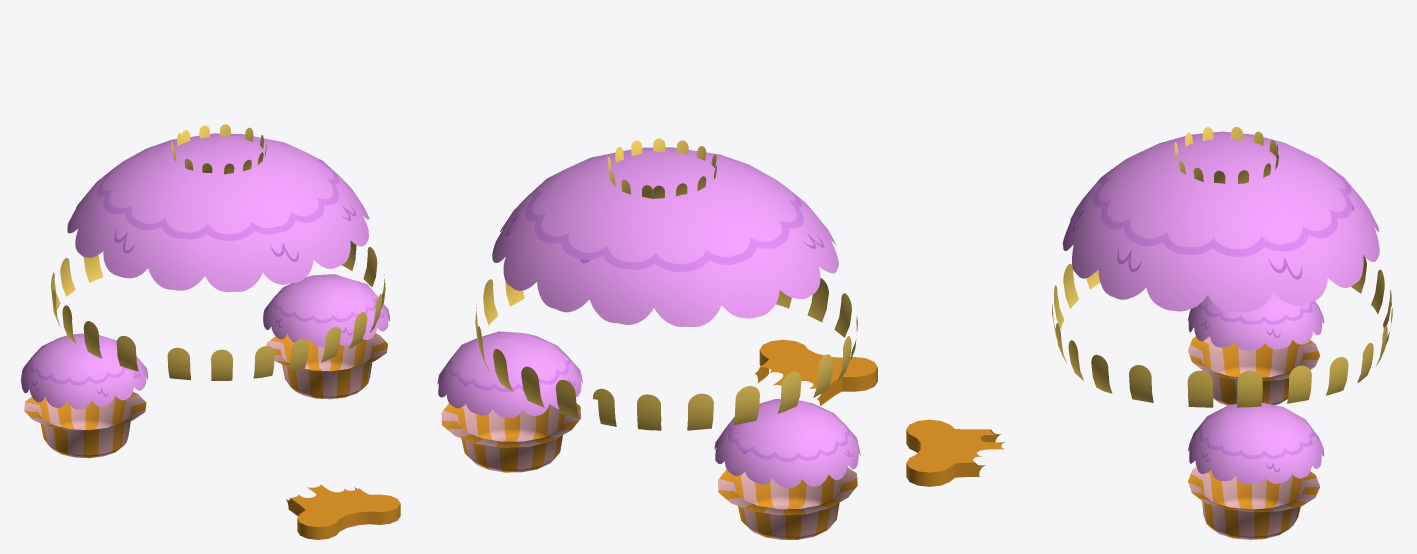
Rendered from mushHouseTriangulate.fbx.
3 renders of one model, left to right at view 1: azimuth 30°, elevation 25°; view 2: azimuth 150°, elevation 25°; view 3: azimuth 270°, elevation 25°, orthographic. The views are drawn at different scales.
Parts seen in each view (by area): view 1: mushHouseTriangulated; view 2: mushHouseTriangulated; view 3: mushHouseTriangulated.
Part boxes in pixels (x1,y1,x2,y2): mushHouseTriangulated: (20,124,400,539); mushHouseTriangulated: (437,138,877,539); mushHouseTriangulated: (906,127,1392,539).
Bounding box in the file's own units: 156 × 167 × 165.
